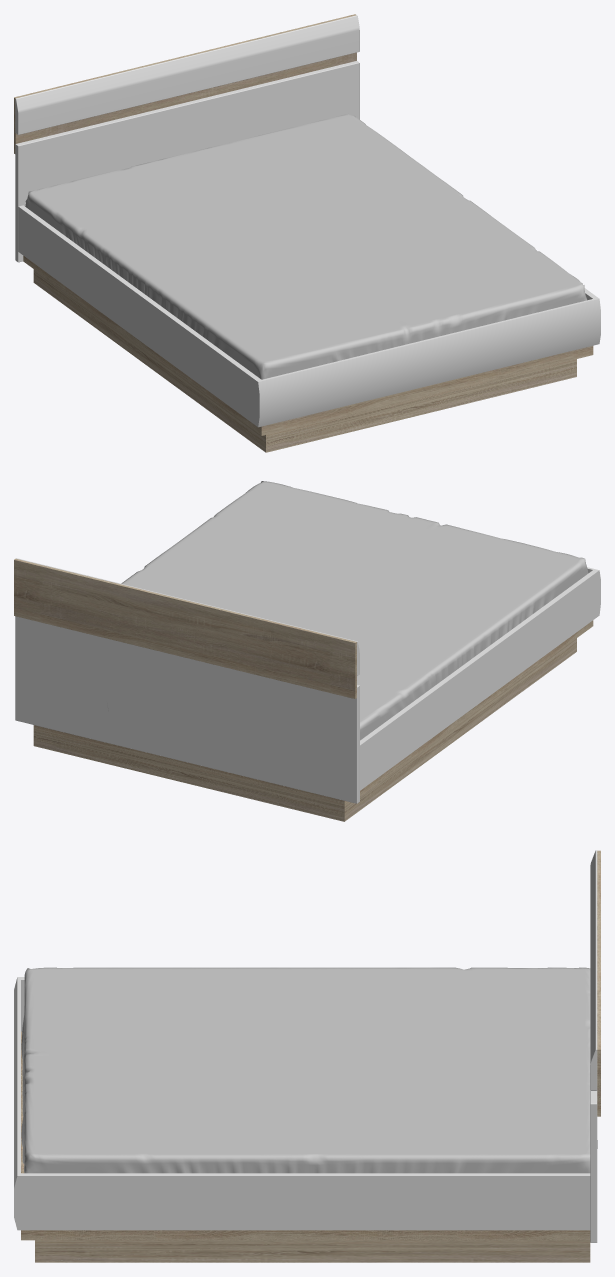
Rendered from bed.gltf.
The picture shows the model from 3 angles, top to bottom: view 1: azimuth 30°, elevation 25°; view 2: azimuth 150°, elevation 25°; view 3: azimuth 270°, elevation 25°; orthographic projection. The views are drawn at different scales.
Visible parts, largest first — view 1: Box021, Box001, Box002, Box003, Box006, Box005, Box004; view 2: Box021, Box002, Box004, Box001, Box006, Box005, Box003; view 3: Box021, Box001, Box006, Box005, Box003, Box002, Box004.
Part boxes in pixels (x1,y1,x2,y2): Box021: [25, 113, 587, 379]; Box001: [18, 205, 600, 427]; Box002: [15, 61, 359, 262]; Box003: [15, 15, 359, 134]; Box006: [33, 269, 576, 452]; Box005: [23, 256, 593, 435]; Box004: [14, 14, 356, 153]; Box021: [106, 481, 588, 740]; Box002: [15, 616, 359, 803]; Box004: [14, 558, 356, 698]; Box001: [360, 567, 600, 790]; Box006: [33, 638, 576, 821]; Box005: [360, 620, 593, 796]; Box003: [16, 558, 359, 675]; Box021: [21, 967, 597, 1173]; Box001: [14, 977, 590, 1230]; Box006: [35, 1240, 590, 1262]; Box005: [21, 1031, 590, 1240]; Box003: [590, 850, 597, 1090]; Box002: [590, 1090, 597, 1242]; Box004: [597, 850, 600, 1116].
Bounding box in the file's own units: 1.66 × 0.861 × 2.06.
3 materials, 1 textured.
